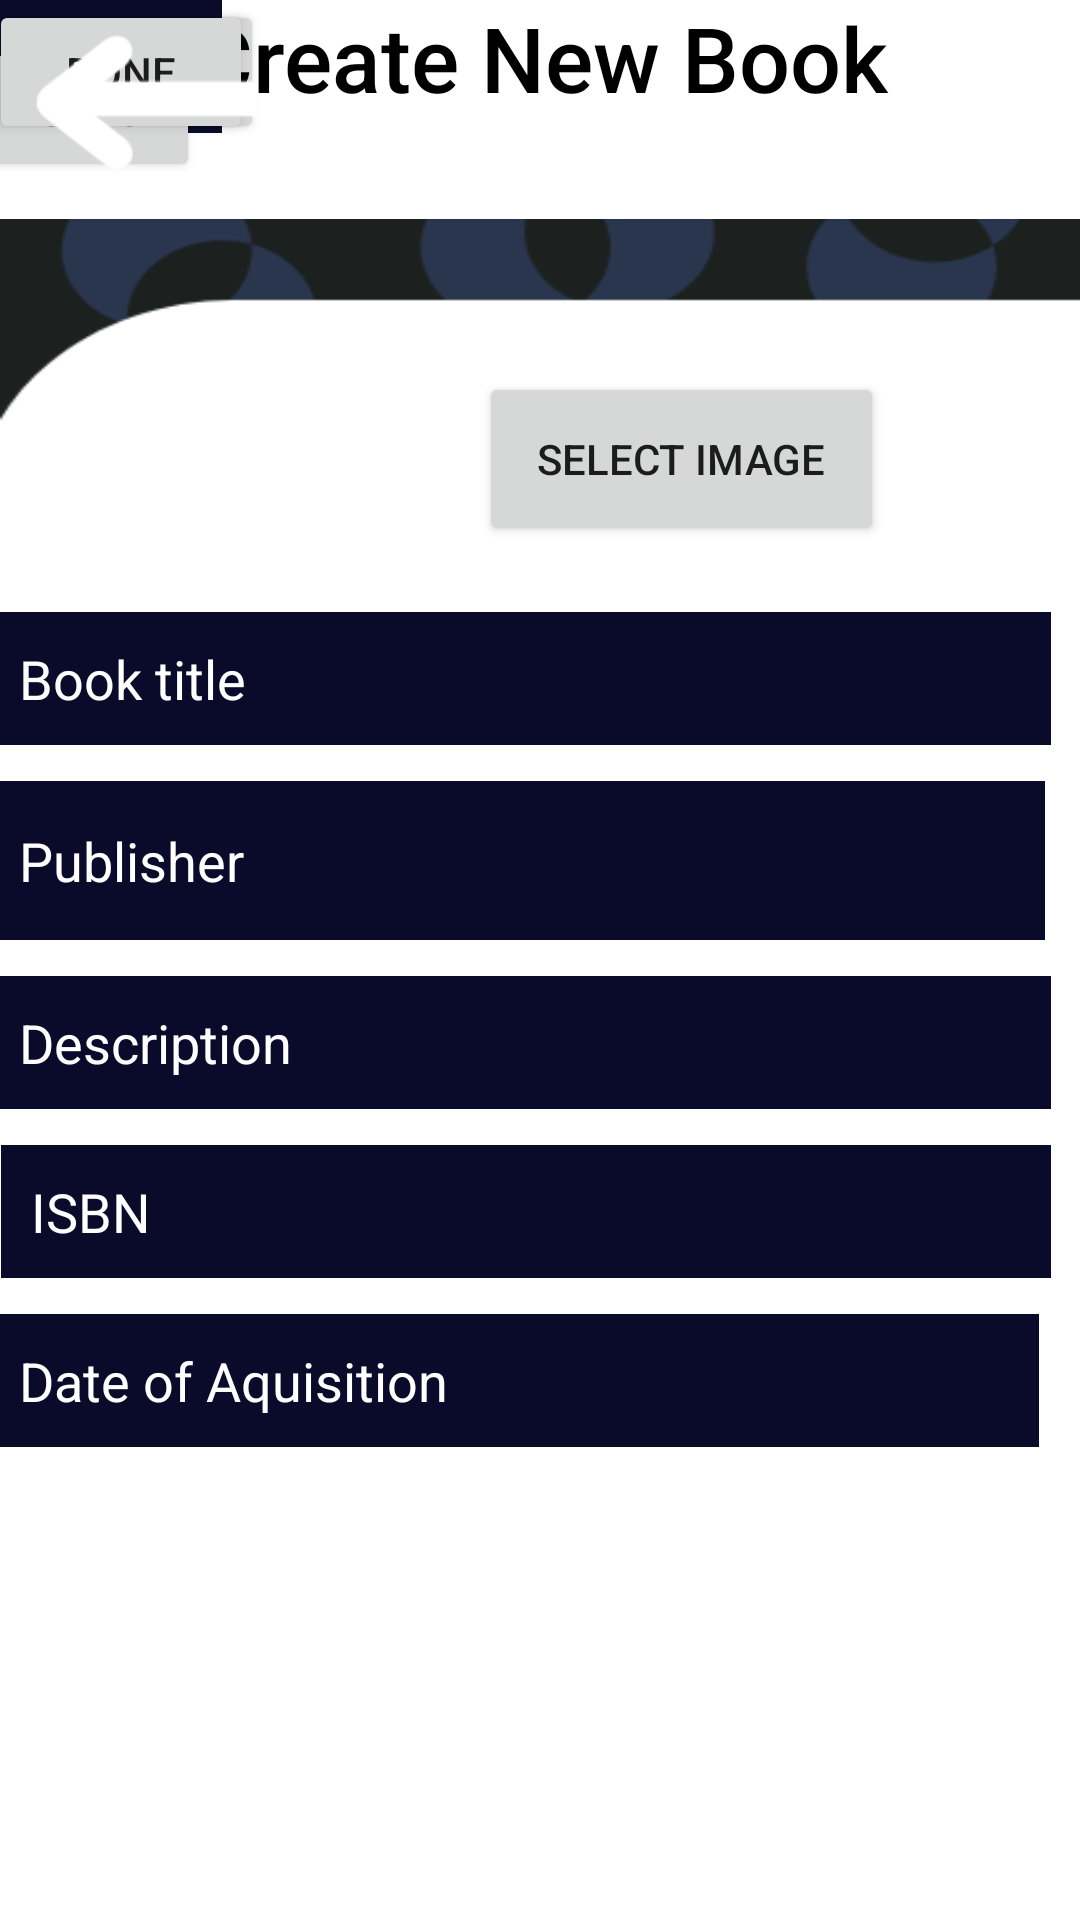

Screen size 1080*1920. Icon name, then its center in pixels as (x,y):
backkey: (147,108)
